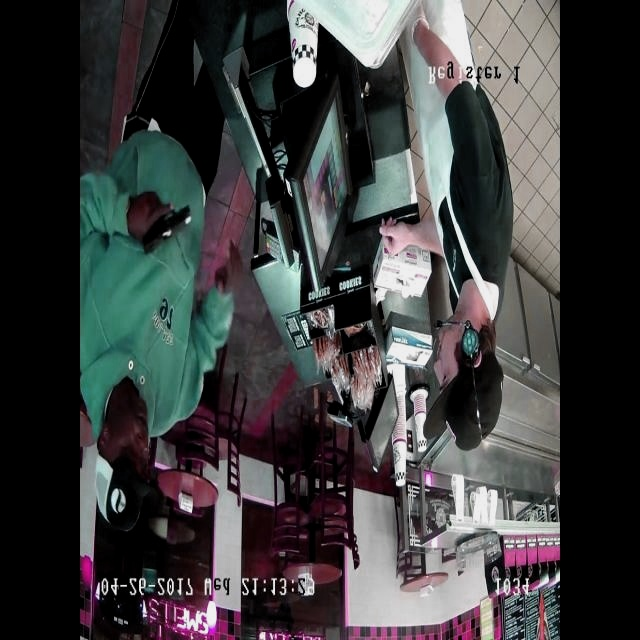gun: (117, 185, 206, 264)
